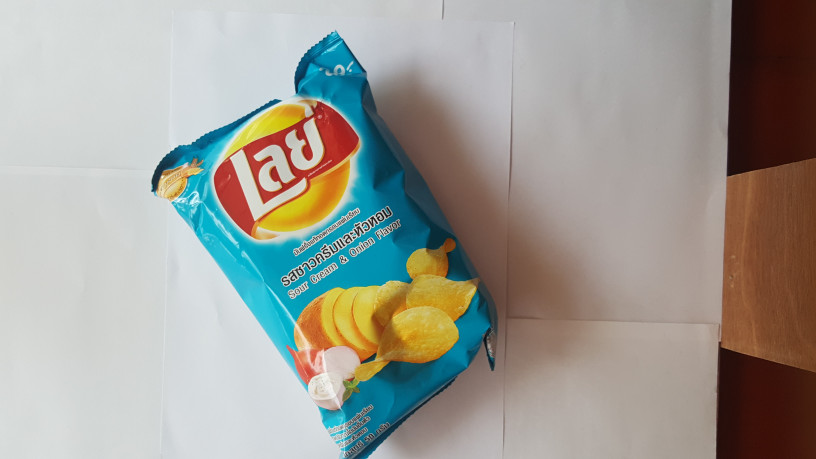lays-onion: (138, 39, 512, 459)
